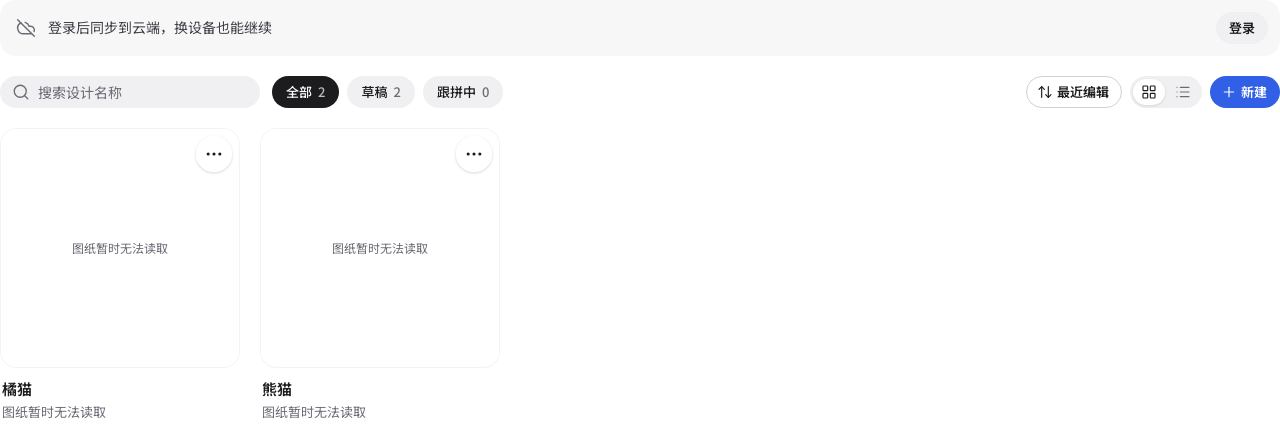
Test: 我的 · 设计 › 实时搜索与状态芯片写进地址；无结果可一键清除
Expected: the heading "橘猫" is shown, top-left (2, 380), bottom-right (32, 398)
Step 1. Type "兔子" into the search field labelled "搜索设计名称" → (147,92), box top-left (38, 76), bottom-right (256, 108)
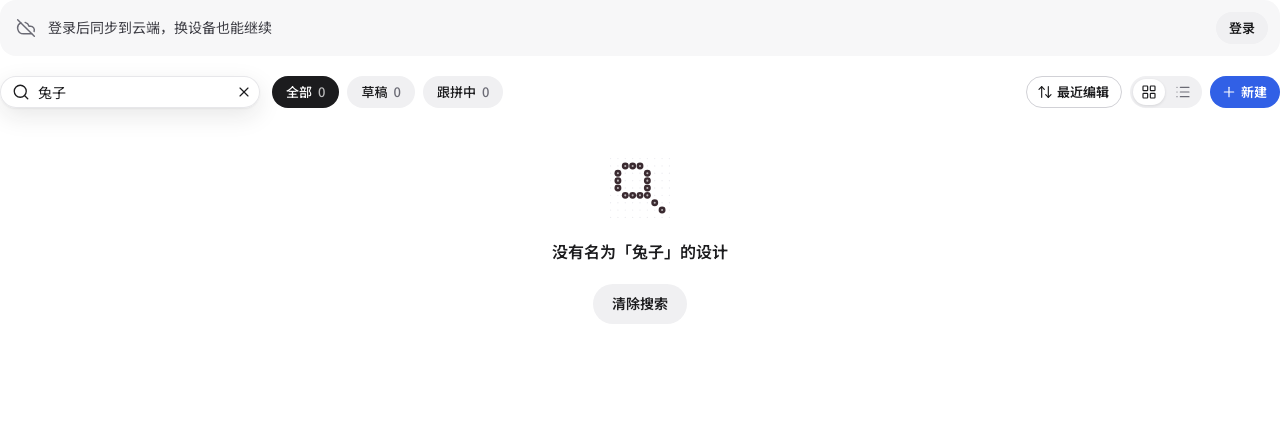
Now the heading "没有名为「兔子」的设计" is shown, box top-left (552, 240), bottom-right (728, 264)
Step 2. Click the button "清除搜索" → (640,304), box top-left (593, 284), bottom-right (687, 324)
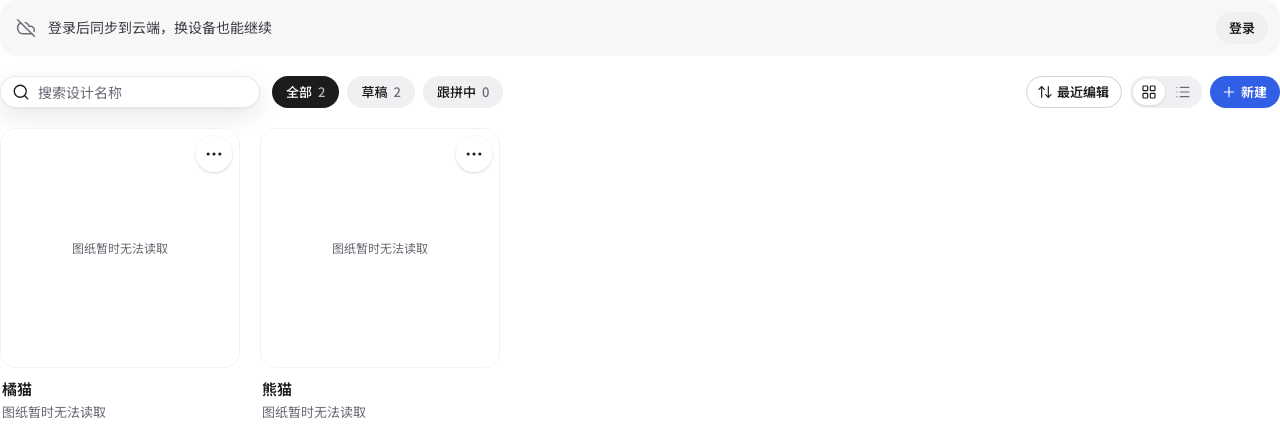
Now the heading "熊猫" is shown, box top-left (262, 380), bottom-right (292, 398)
Step 3. Click the button "跟拼中 0" → (463,92), box top-left (423, 76), bottom-right (503, 108)
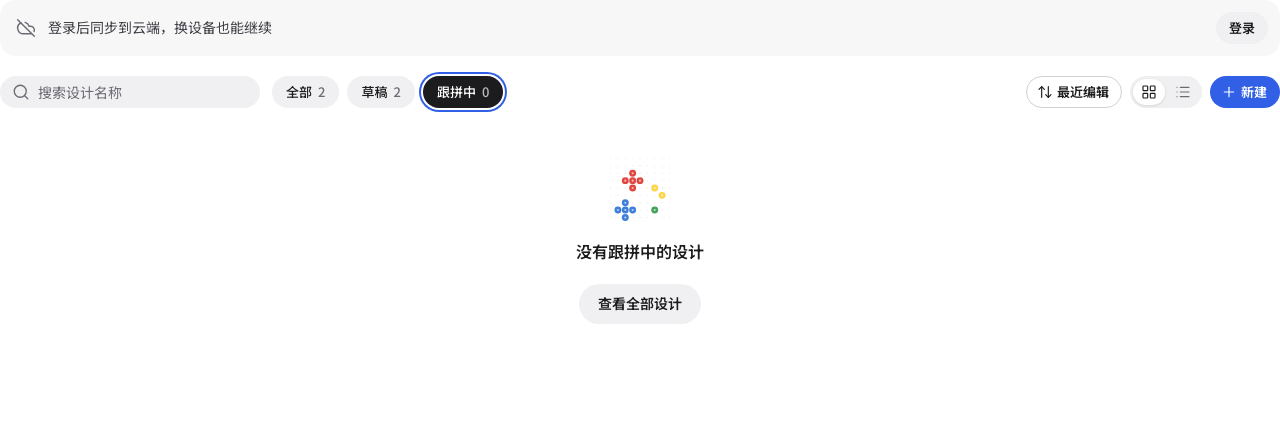
Now the heading "没有跟拼中的设计" is shown, box top-left (576, 240), bottom-right (704, 264)
